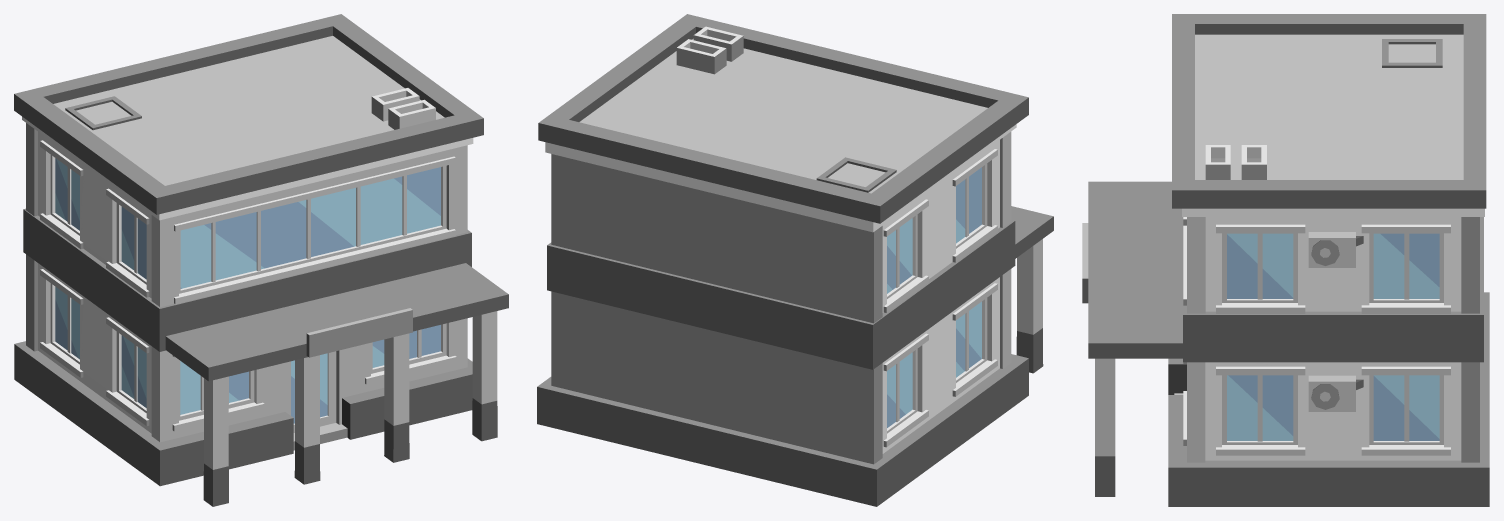
Rendered from bank_004.fbx.
The picture shows the model from 3 angles, left to right: view 1: azimuth 30°, elevation 25°; view 2: azimuth 150°, elevation 25°; view 3: azimuth 270°, elevation 25°; orthographic projection. The views are drawn at different scales.
Visible parts, largest first — view 1: bank_004; view 2: bank_004; view 3: bank_004.
Part boxes in pixels (x1,y1,x2,y2): bank_004: (14,14,508,506); bank_004: (537,14,1053,506); bank_004: (1082,14,1489,506).
Size of the model in its own units: 714 by 616 by 698.
